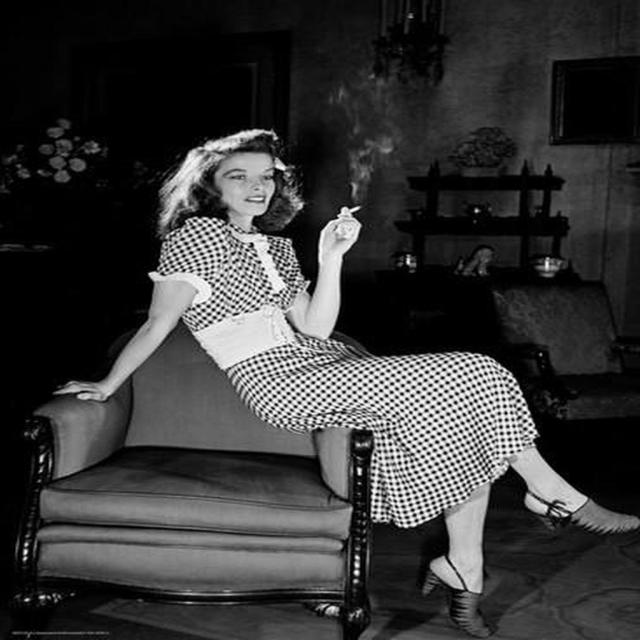smoking: (174, 137, 378, 239)
